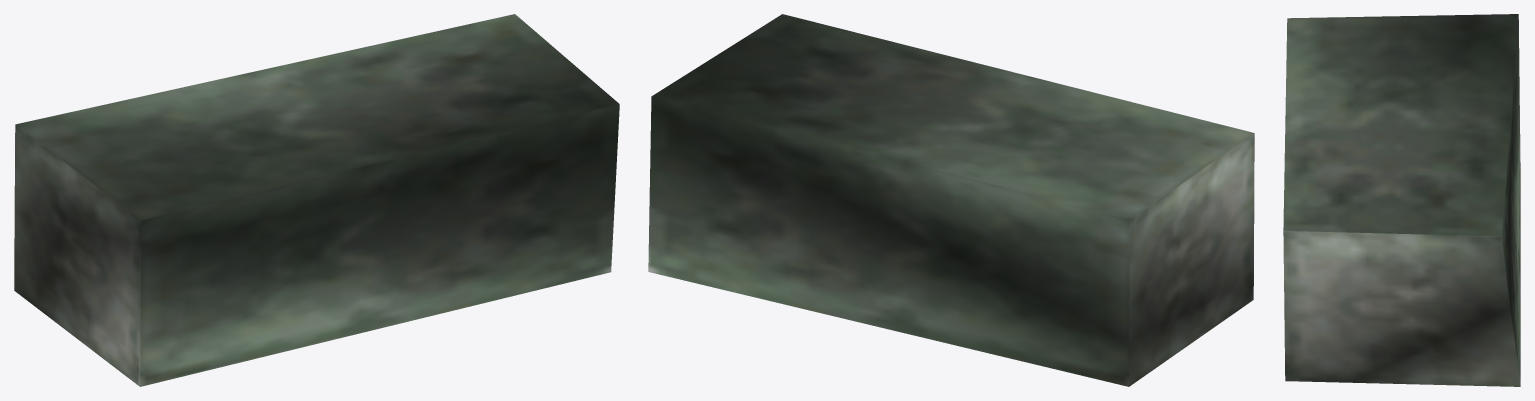
The model's file is duskwoodruinsbrick.obj.
The picture shows the model from 3 angles, left to right: view 1: azimuth 30°, elevation 25°; view 2: azimuth 150°, elevation 25°; view 3: azimuth 270°, elevation 25°; orthographic projection. The views are drawn at different scales.
Visible parts, largest first — view 1: DUSKWOODRUINSBRICK0; view 2: DUSKWOODRUINSBRICK0; view 3: DUSKWOODRUINSBRICK0.
Part boxes in pixels (box(x1,y1,x2,y2)): DUSKWOODRUINSBRICK0: box(14, 14, 619, 386); DUSKWOODRUINSBRICK0: box(648, 14, 1254, 386); DUSKWOODRUINSBRICK0: box(1283, 14, 1520, 386).
Size of the model in its own units: 1.52 by 0.5076 by 0.691.
1 material, 1 textured.
